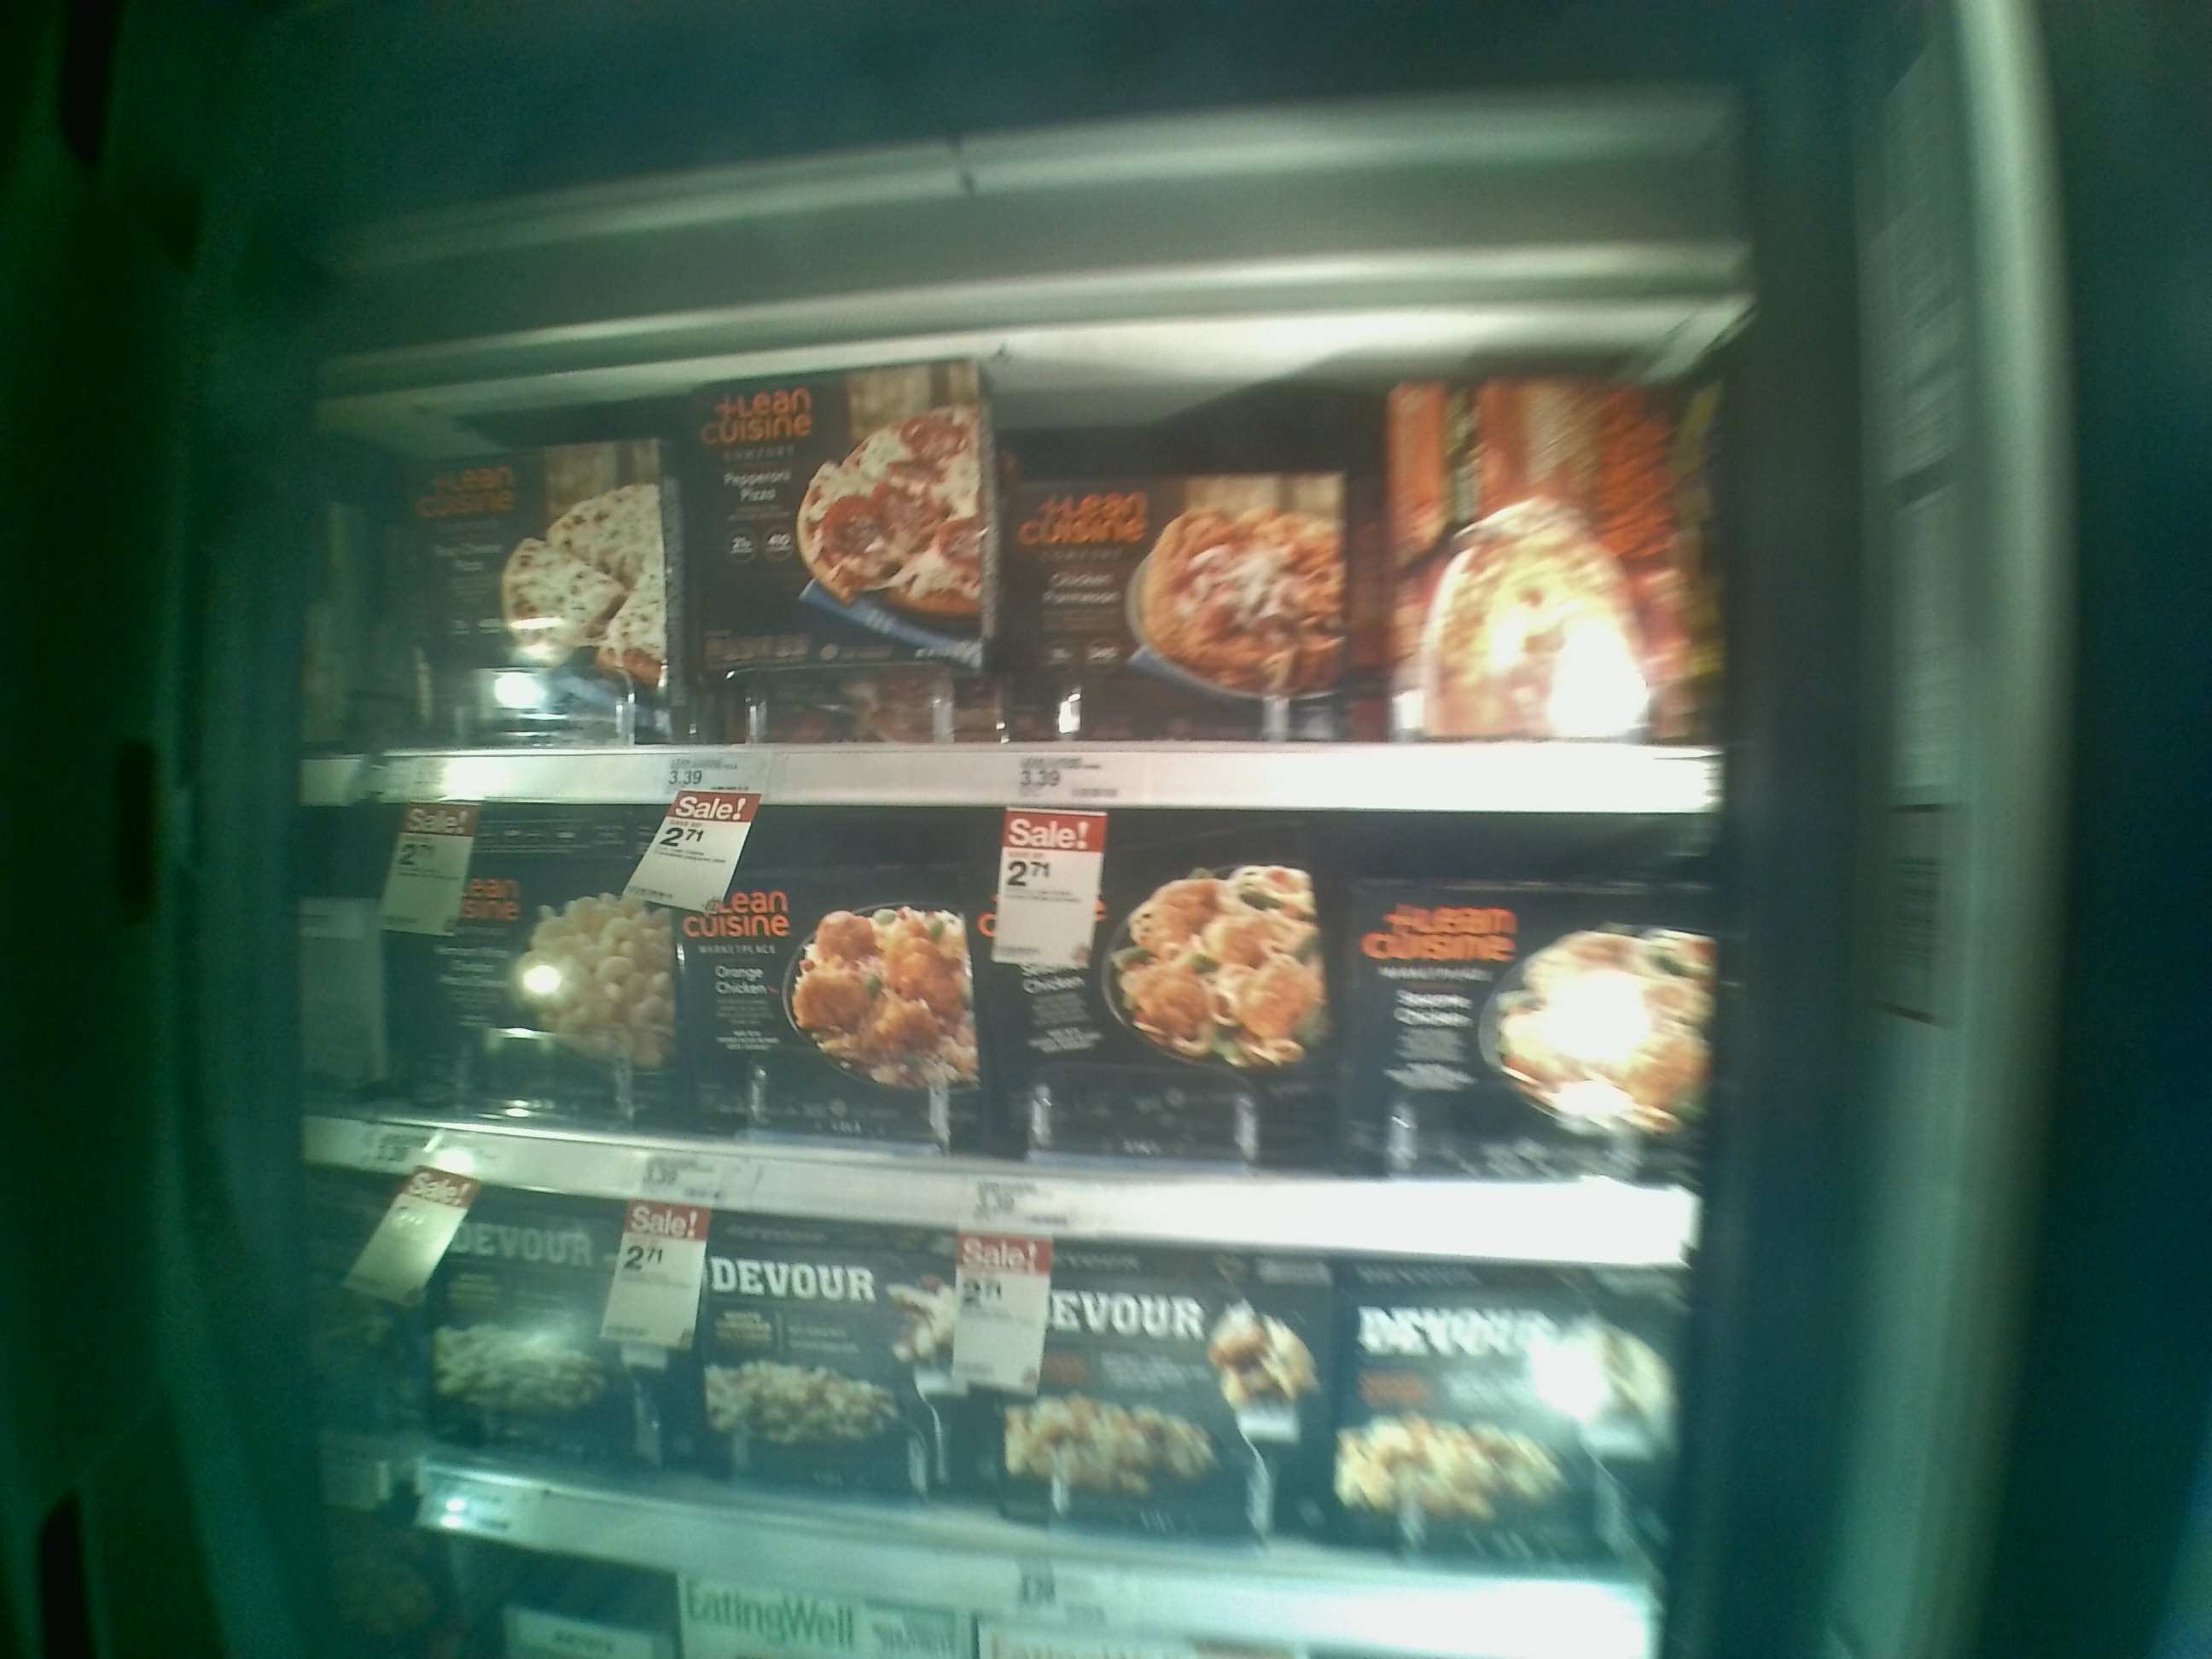shelf: (291, 289, 1714, 812), (289, 807, 1703, 1274)
